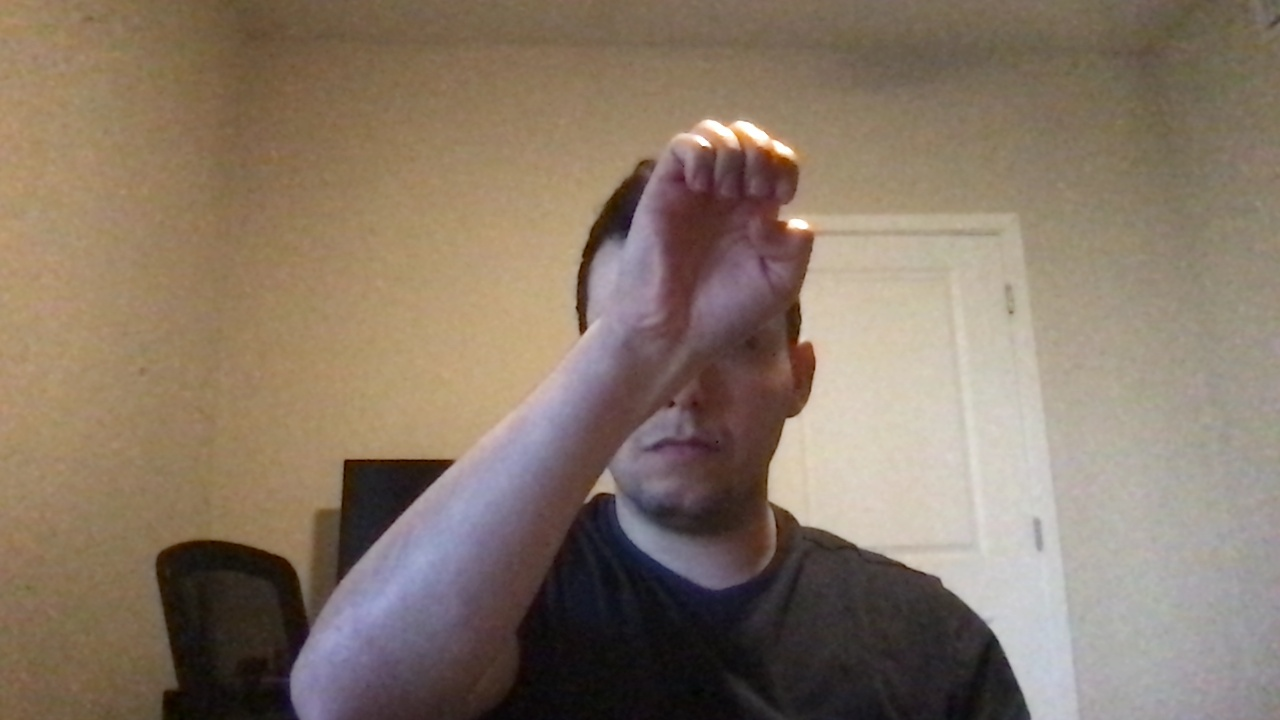e: (627, 114, 823, 351)
